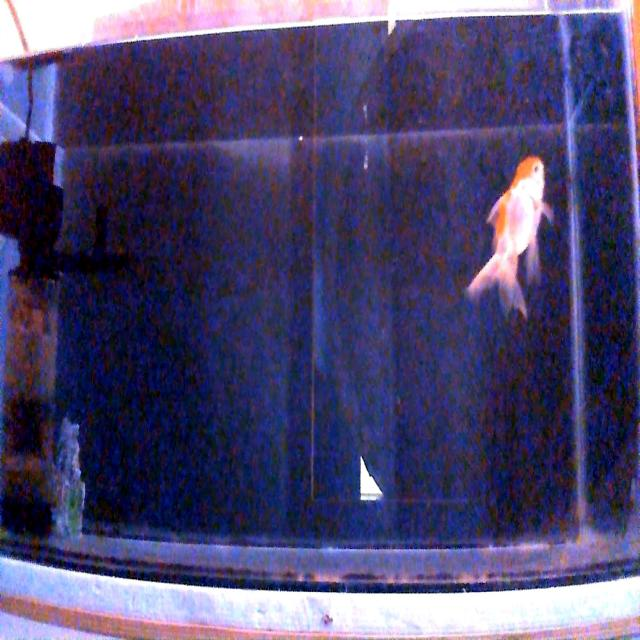fish: (464, 152, 556, 323)
